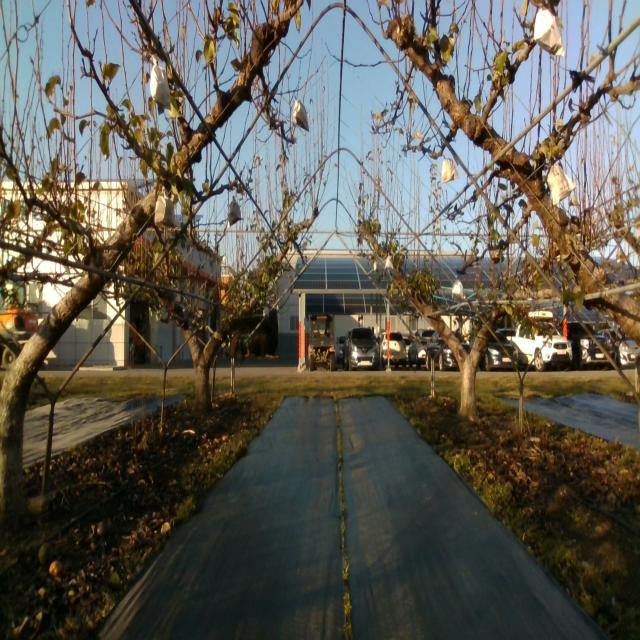pearbags: (533, 7, 566, 58), (546, 165, 576, 206), (149, 55, 172, 106), (154, 186, 175, 227), (292, 96, 310, 133), (441, 155, 459, 183), (228, 197, 242, 228), (451, 274, 466, 300)
